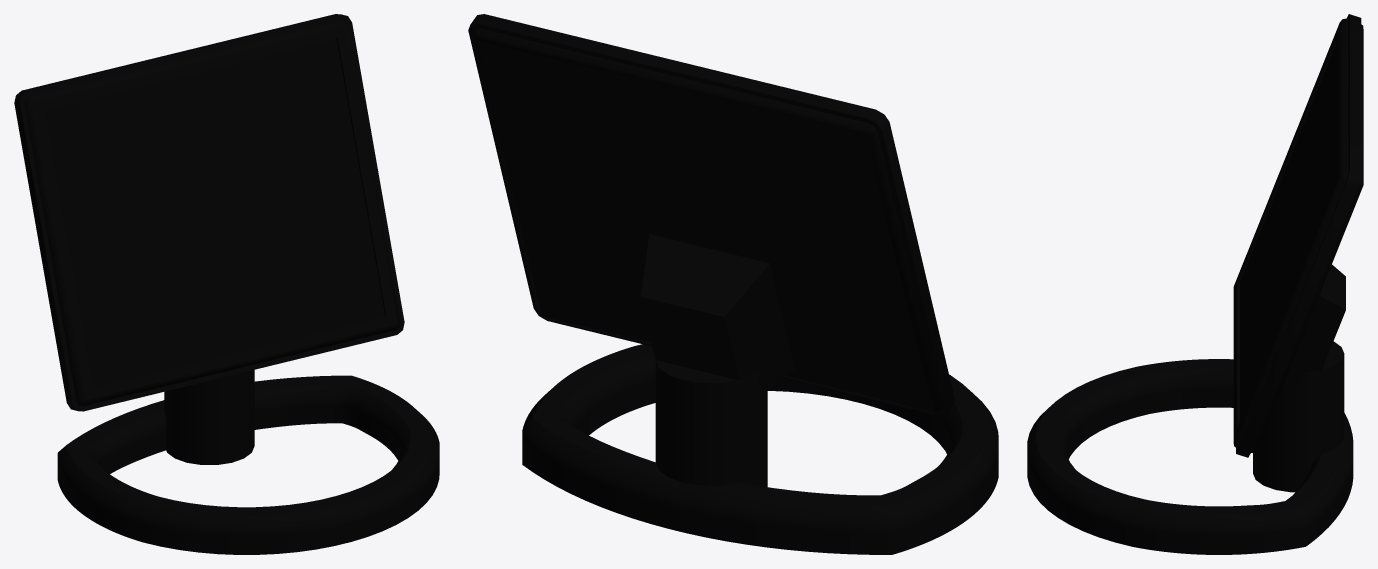
File: Computer.FBX
The picture shows the model from 3 angles, left to right: view 1: azimuth 30°, elevation 25°; view 2: azimuth 150°, elevation 25°; view 3: azimuth 270°, elevation 25°; orthographic projection. The views are drawn at different scales.
Parts seen in each view (by area): view 1: Plane004, Cylinder011; view 2: Cylinder011; view 3: Cylinder011, Plane004.
Part boxes in pixels (box(x1,y1,x2,y2)): Plane004: box(44, 39, 384, 387); Cylinder011: box(14, 14, 439, 554); Cylinder011: box(468, 14, 998, 554); Cylinder011: box(1027, 14, 1363, 554); Plane004: box(1240, 45, 1336, 420).
Bounding box in the file's own units: 687 × 741 × 592.
